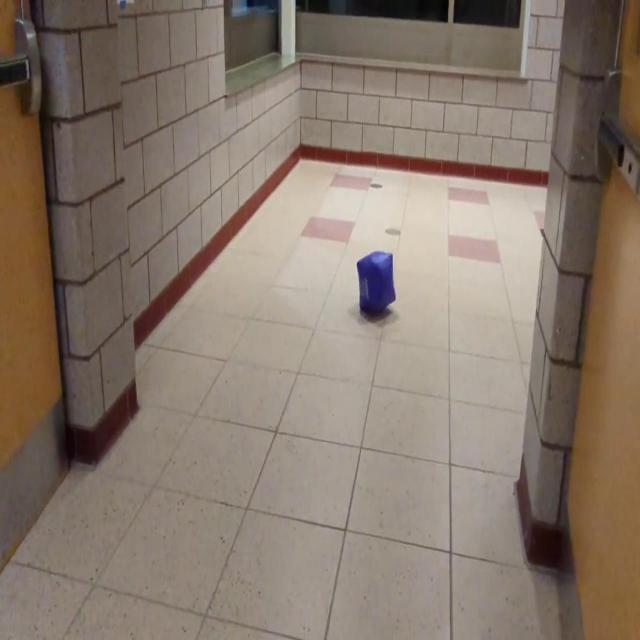frc_cube: (356, 251, 396, 313)
